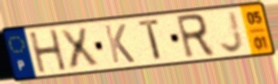H: (27, 28, 69, 75)
J: (218, 9, 246, 55)
K: (102, 22, 137, 65)
R: (173, 11, 218, 61)
T: (137, 16, 164, 63)
X: (56, 26, 101, 71)
